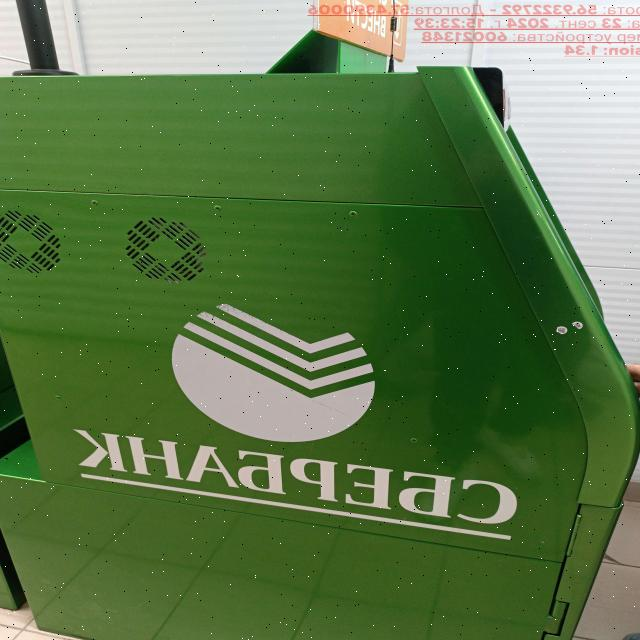bank: (0, 68, 639, 640)
